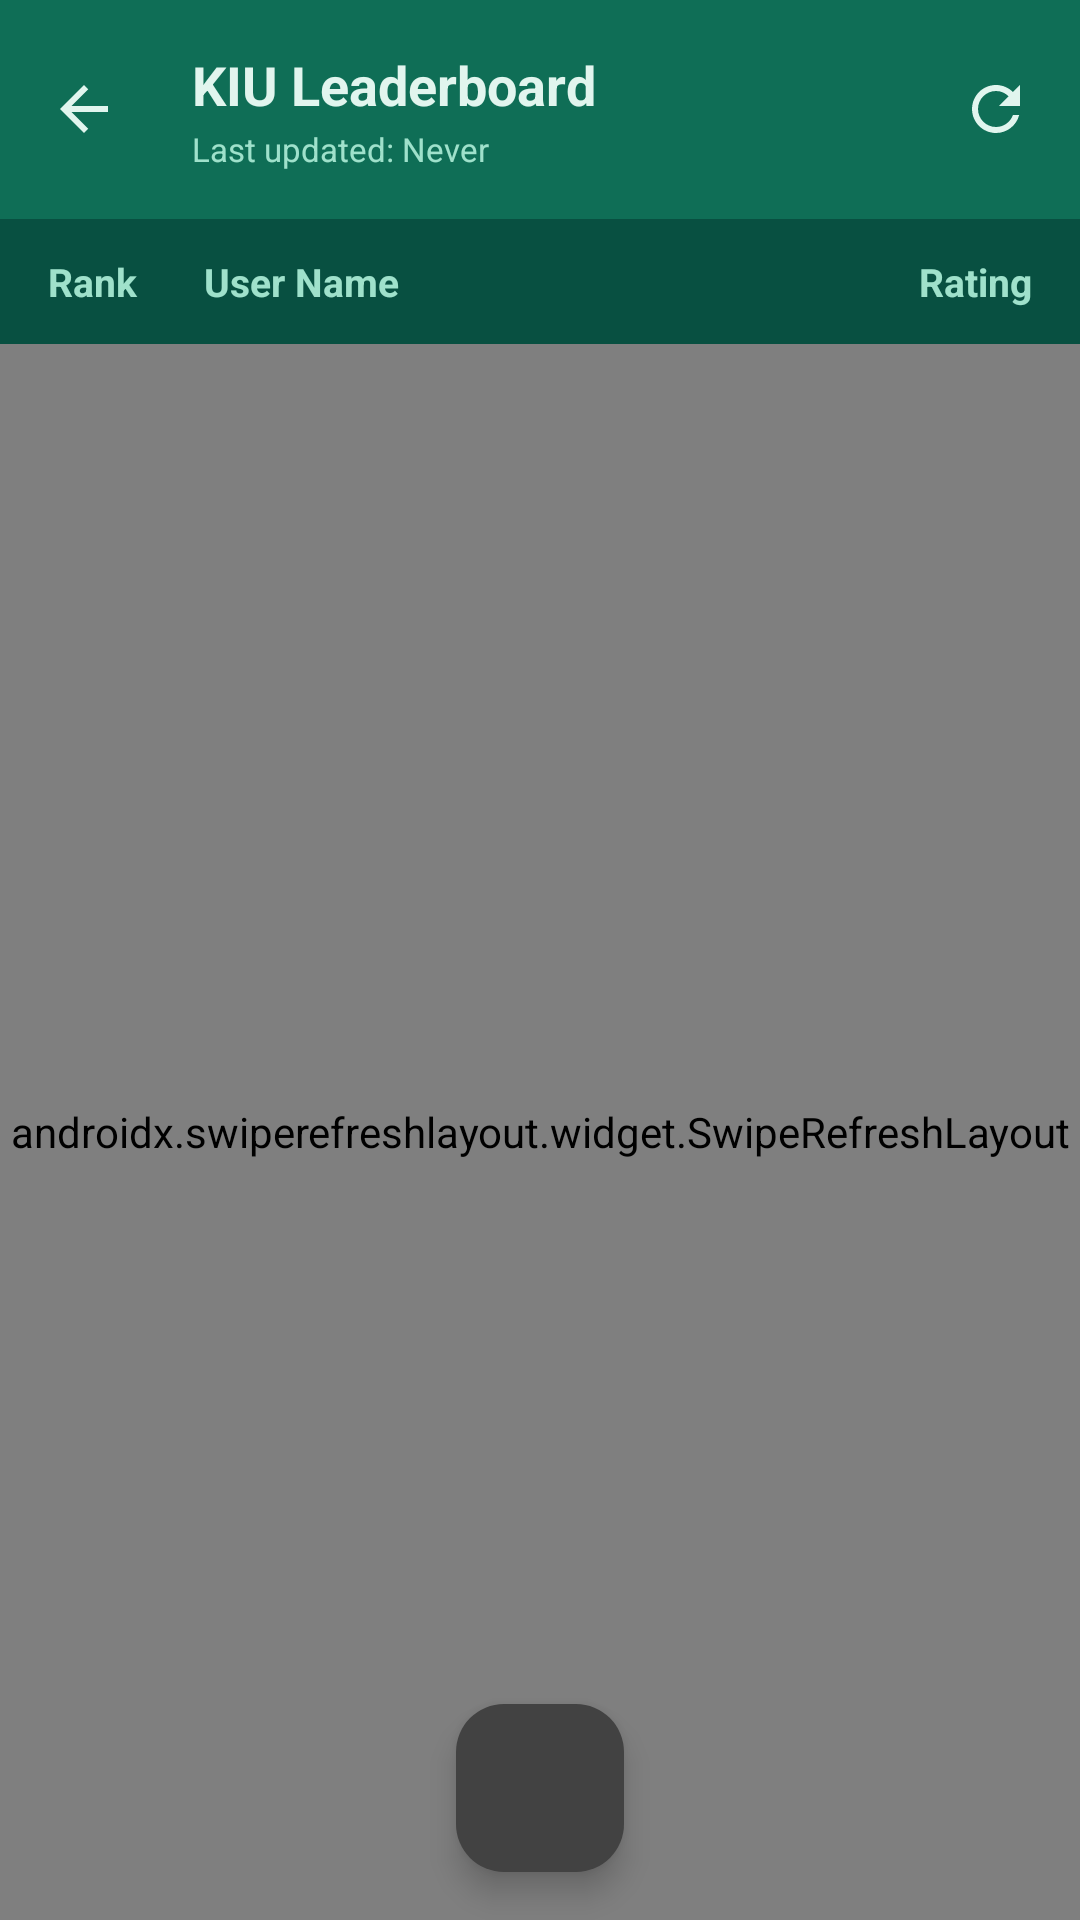

Named icons in this screenshot (1080*1920) and their bounding boxes, (x1, y1, x2, y2):
Back: (60, 85, 108, 133)
Refresh: (972, 85, 1020, 133)
